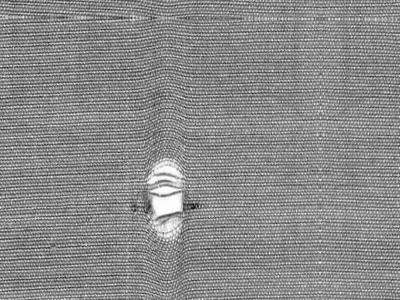hole: (143, 154, 190, 247)
